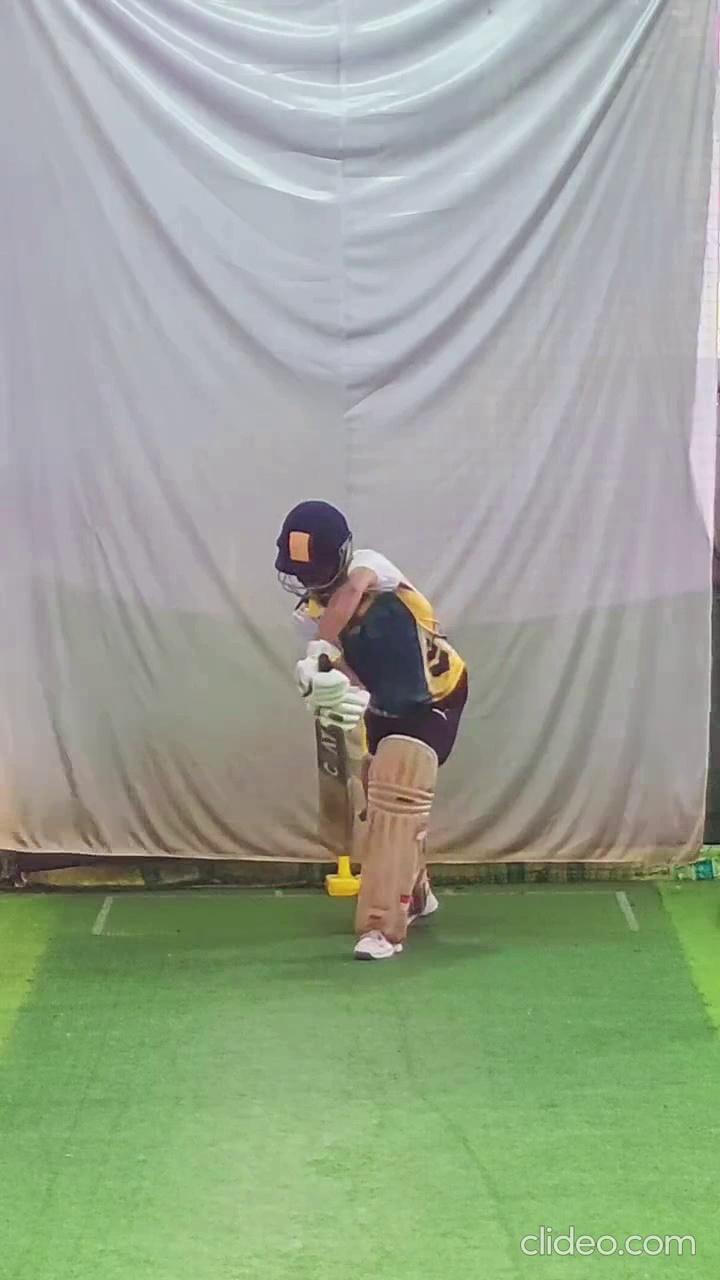bat: (311, 719, 356, 862)
